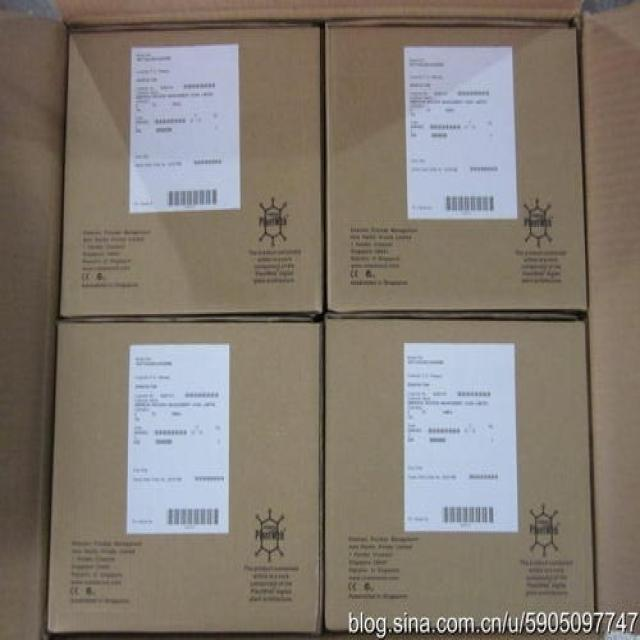box: (324, 316, 599, 633), (49, 321, 321, 634), (61, 24, 324, 321), (325, 20, 589, 315)
